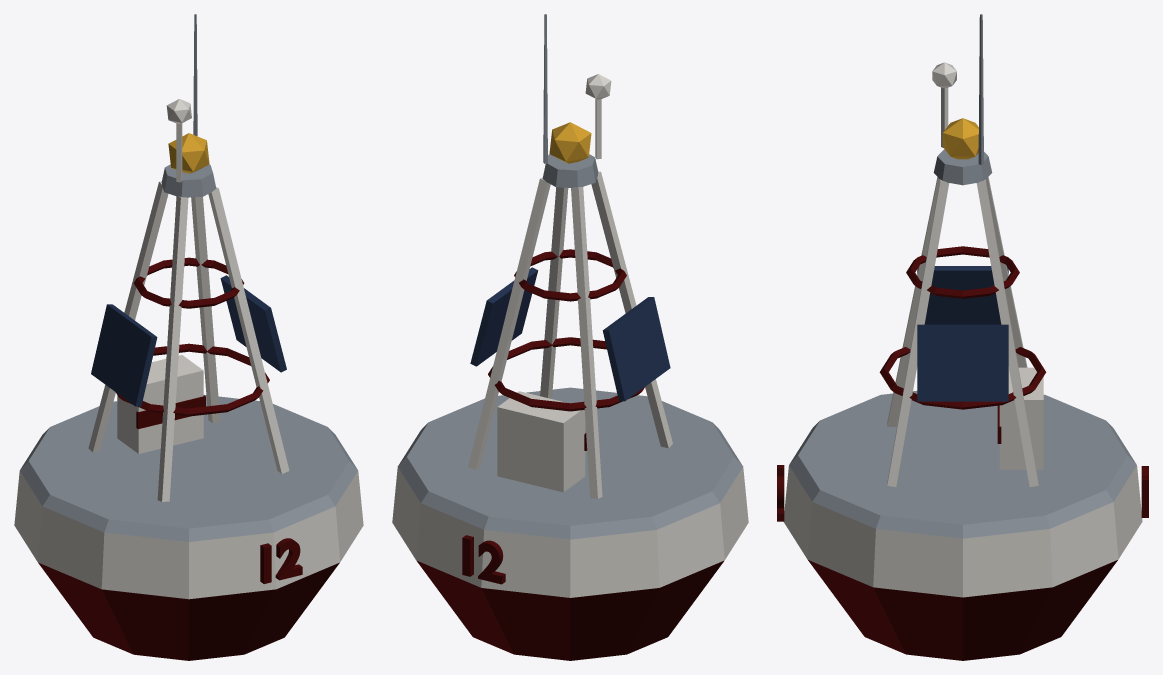
The model's file is Research_Buoy_A.glb.
The picture shows the model from 3 angles, left to right: view 1: azimuth 30°, elevation 25°; view 2: azimuth 150°, elevation 25°; view 3: azimuth 270°, elevation 25°; orthographic projection. The views are drawn at different scales.
Visible parts, largest first — view 1: Research_Buoy_A; view 2: Research_Buoy_A; view 3: Research_Buoy_A.
Boxes of the visible parts, x1=… form: Research_Buoy_A: x1=14, y1=14, x2=363, y2=660; Research_Buoy_A: x1=392, y1=14, x2=748, y2=660; Research_Buoy_A: x1=777, y1=14, x2=1148, y2=660.
Bounding box in the file's own units: 1.96 × 3.65 × 2.03.
